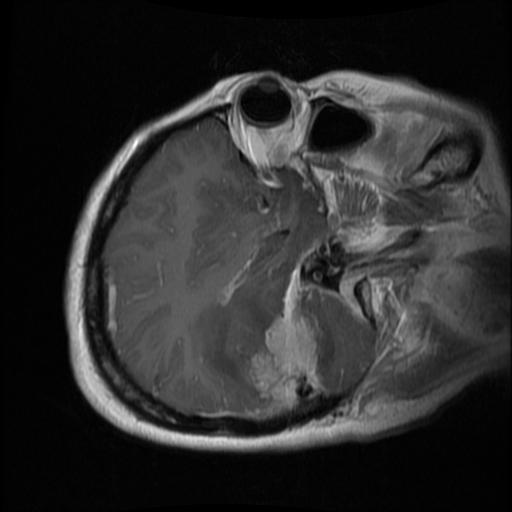meningioma: (249, 268, 321, 410)
